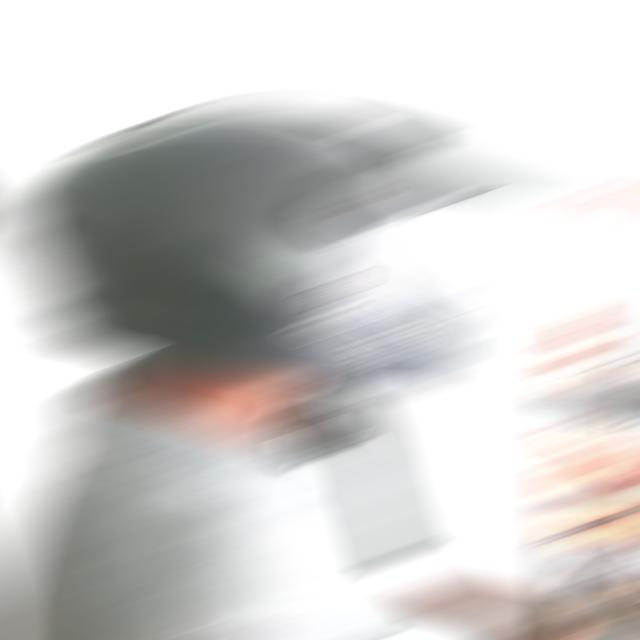With Helmet: (10, 104, 545, 394)
